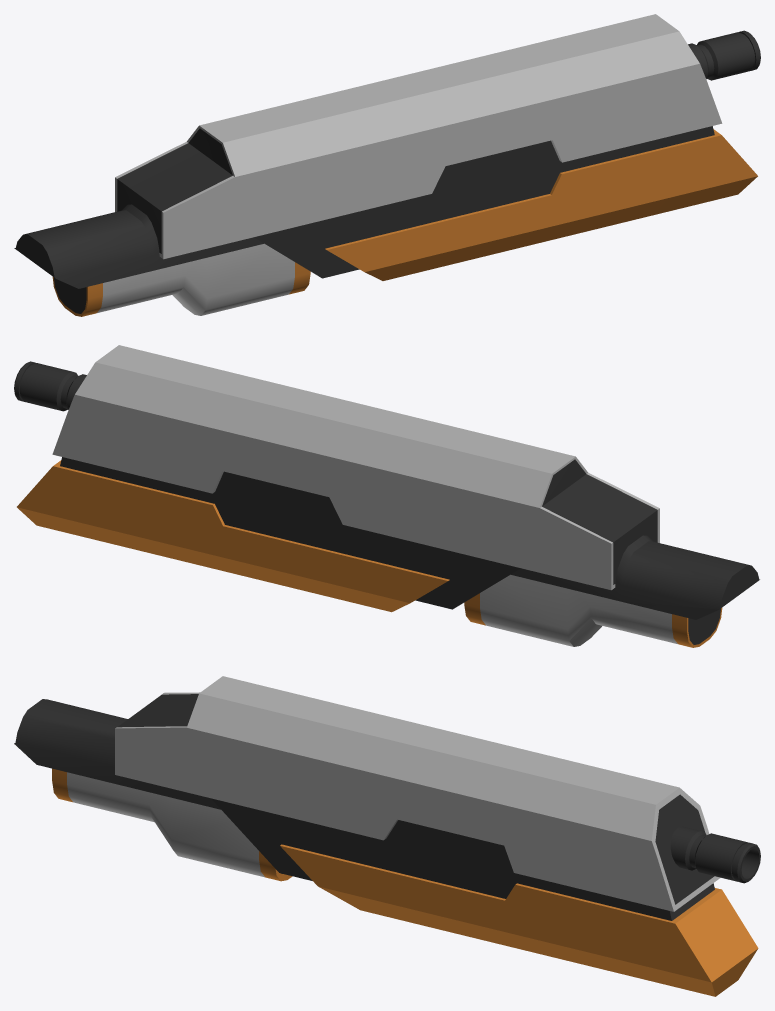
The model's file is Body_SMG_2.gltf.
3 renders of one model, top to bottom at view 1: azimuth 30°, elevation 25°; view 2: azimuth 150°, elevation 25°; view 3: azimuth 330°, elevation 25°, orthographic.
Visible parts, largest first — view 1: Body_SMG_2; view 2: Body_SMG_2; view 3: Body_SMG_2.
Boxes of the visible parts, x1,y1,x2,y2 form: Body_SMG_2: (14,14,760,316); Body_SMG_2: (14,345,759,647); Body_SMG_2: (14,676,760,996).
Bounding box in the file's own units: 1.5 × 0.3561 × 0.176.
